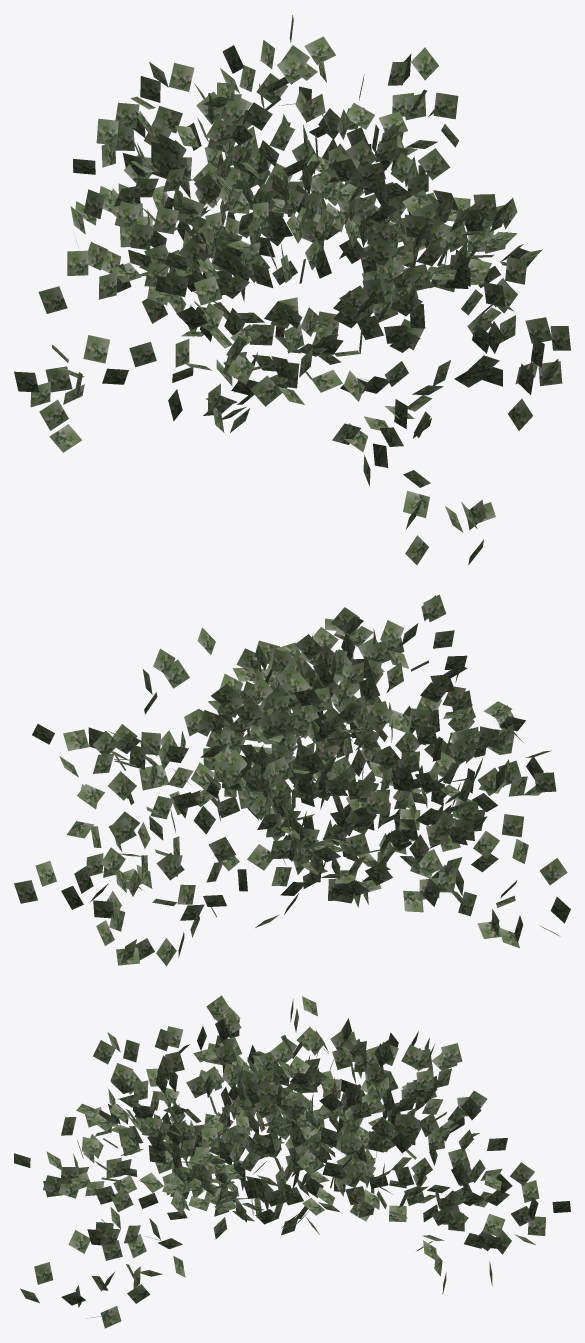
The model's file is MESH_WE17_QuercusAgrifolia_A_LOD2.fbx.
3 views of the same model, one above another, from view 1: azimuth 30°, elevation 25°; view 2: azimuth 150°, elevation 25°; view 3: azimuth 270°, elevation 25° (orthographic). The views are drawn at different scales.
Visible parts, largest first — view 1: MI_LOD2_001; view 2: MI_LOD2_001; view 3: MI_LOD2_001.
Boxes of the visible parts, x1,y1,x2,y2 form: MI_LOD2_001: [14, 15, 570, 564]; MI_LOD2_001: [14, 594, 570, 966]; MI_LOD2_001: [14, 995, 570, 1328].
Size of what is drawn, in the model's own units: 2120 by 1544 by 2624.
